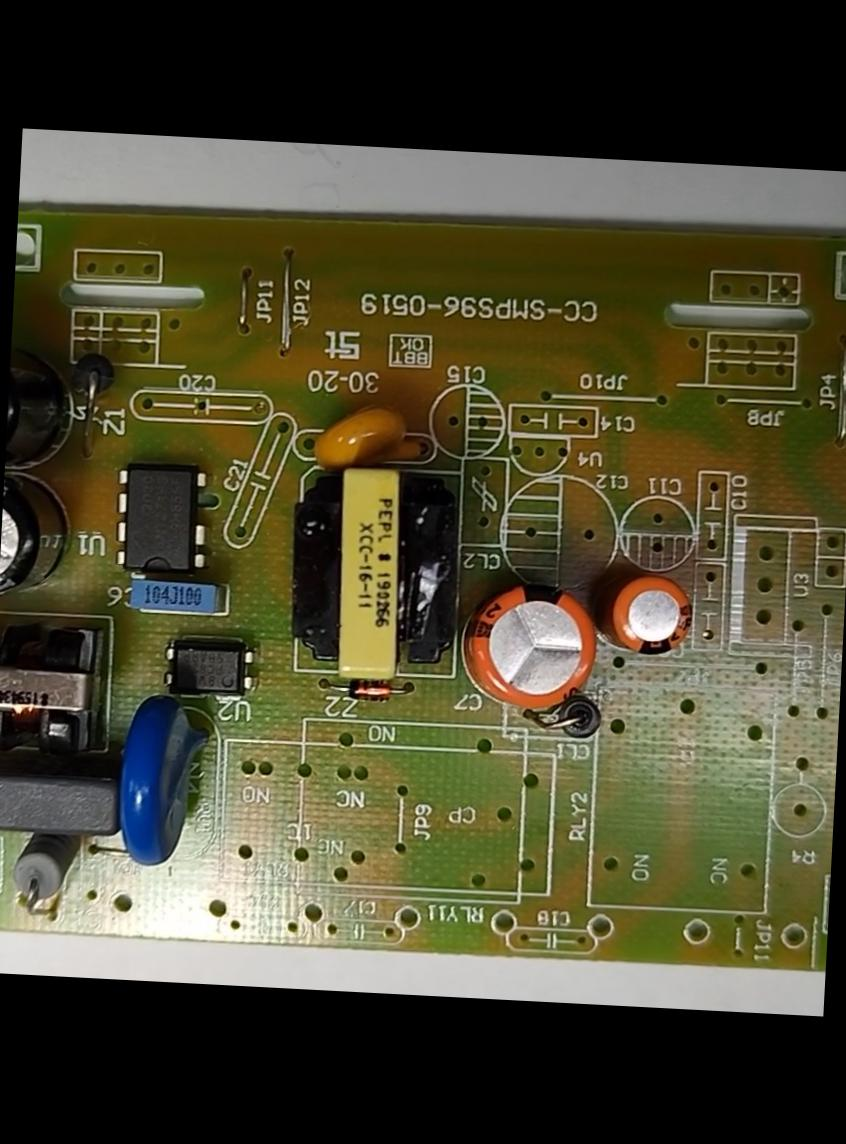Cap1: (450, 562, 606, 726)
Cap2: (582, 552, 706, 673)
Cap3: (0, 459, 82, 617)
Cap4: (5, 341, 91, 483)
MOSFET: (103, 446, 215, 582)
Mov: (108, 682, 216, 880)
Resistor: (0, 826, 82, 929)
Transformer: (286, 454, 471, 688), (0, 614, 110, 766)
